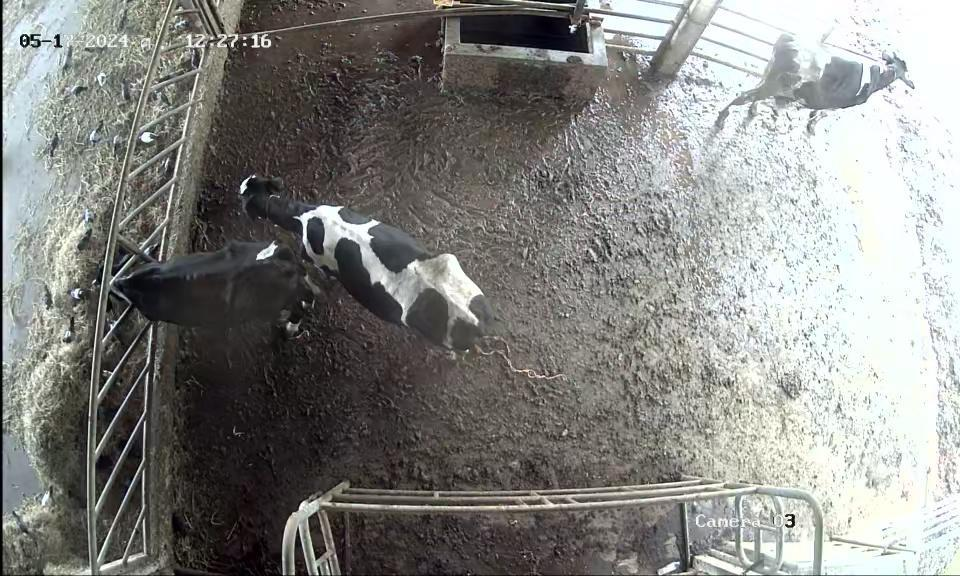eat: (66, 254, 182, 327)
stand: (227, 158, 525, 361), (713, 22, 916, 149)
